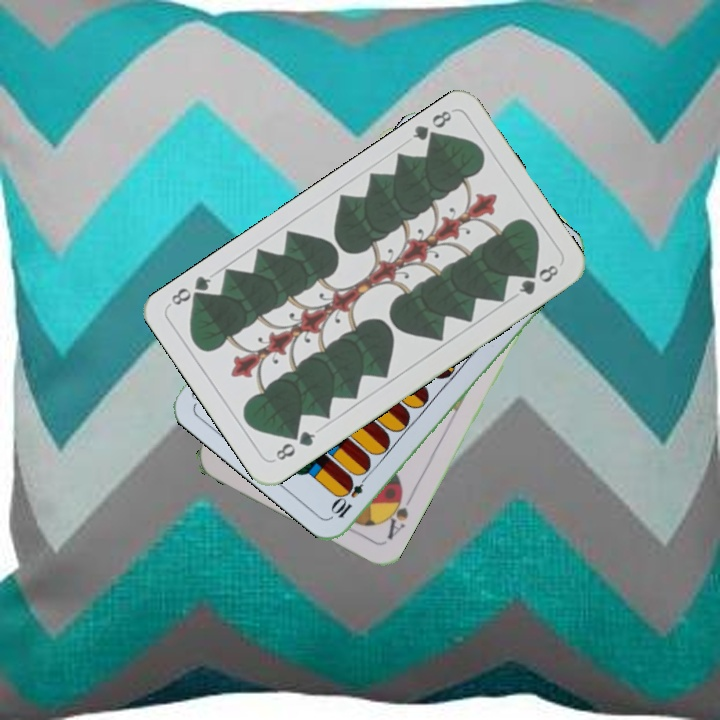E10: (328, 468, 372, 521)
G8: (408, 106, 455, 148), (271, 426, 319, 464)
SA: (378, 487, 415, 542)
